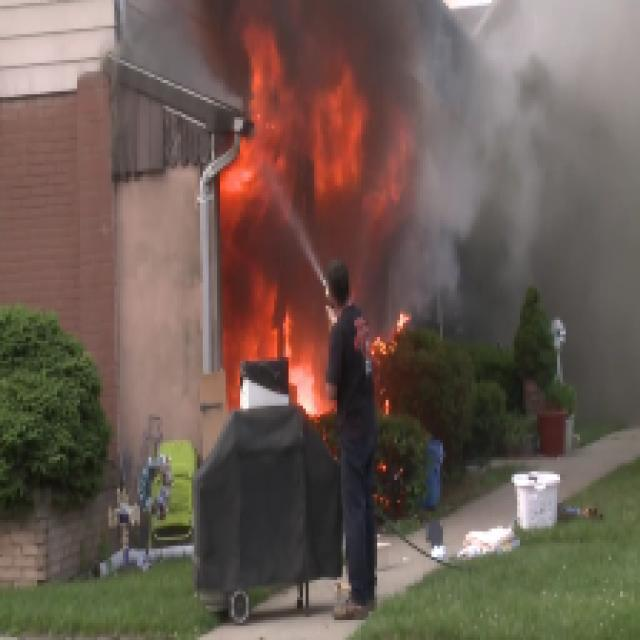Fire: (232, 23, 428, 526)
Smoke: (140, 0, 640, 289)
